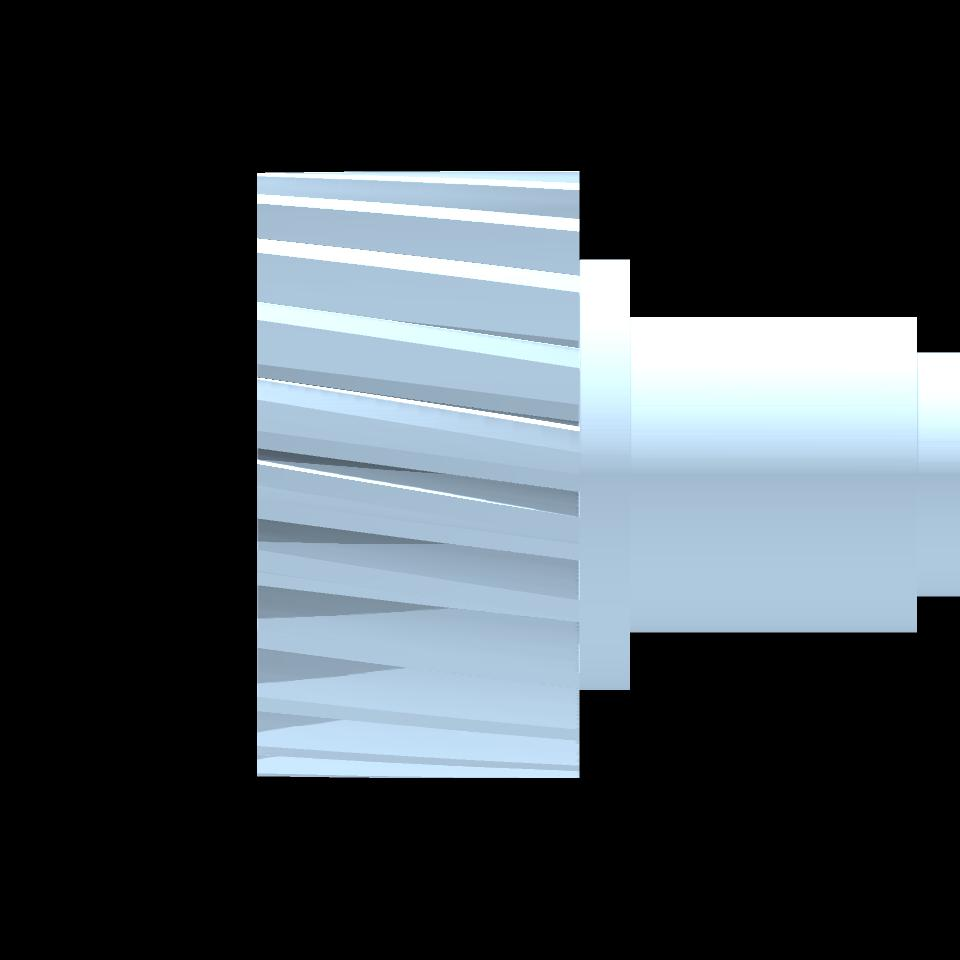Helical: (256, 171, 580, 780)
